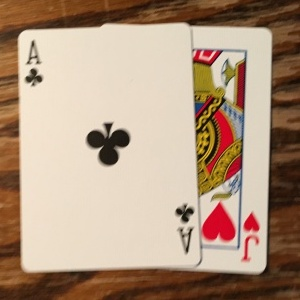card: (18, 24, 202, 272), (189, 24, 271, 276)
